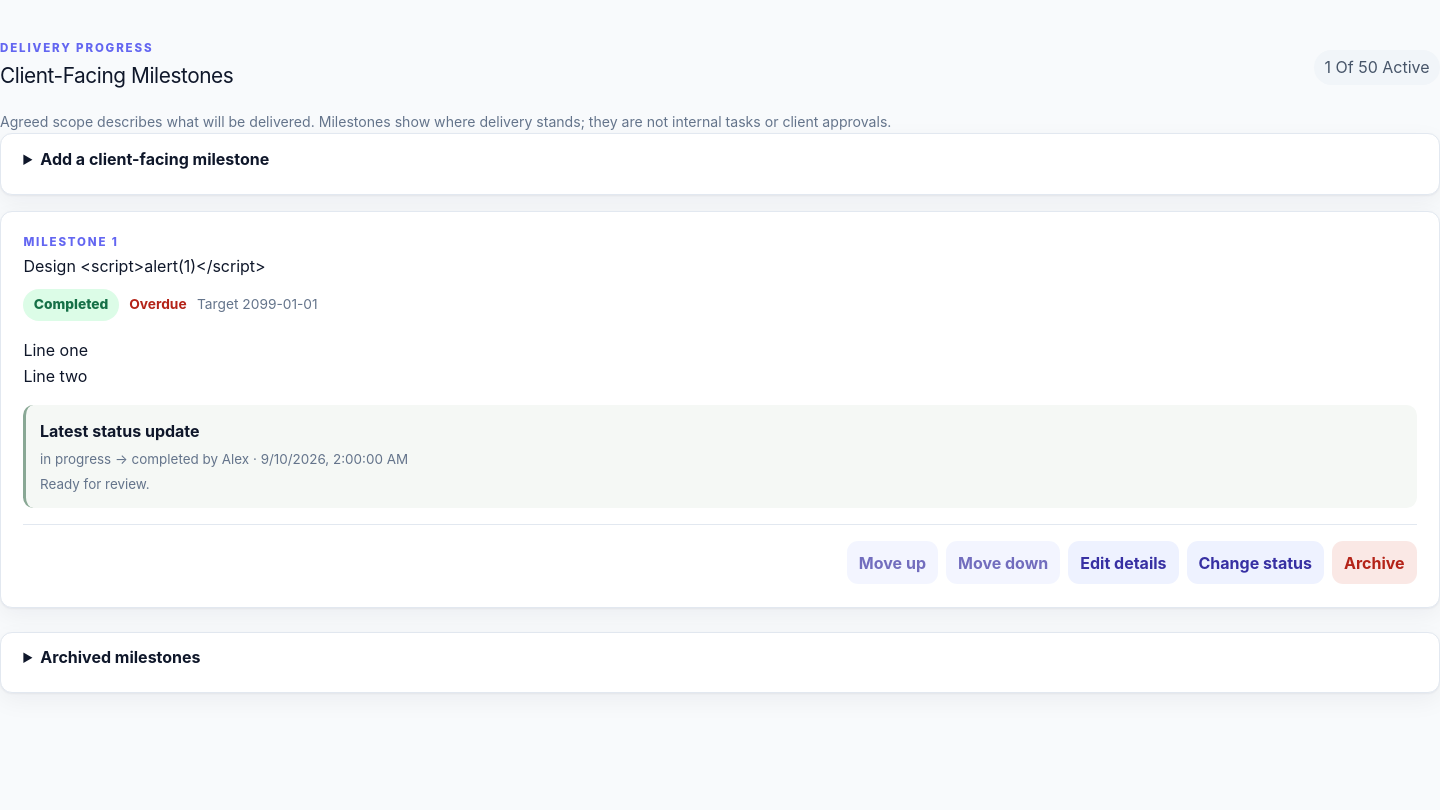
Test: Slice 1.4 milestone interface › keeps completed milestones editable, reopenable, keyboard-orderable, and explicitly archivable
This screenshot has width=1440, height=810.
Expected: the button "Edit details" is shown, x1=1068 y1=541 x2=1179 y2=584
Click the button "Change status".
click(1255, 563)  # box x1=1186 y1=541 x2=1324 y2=584
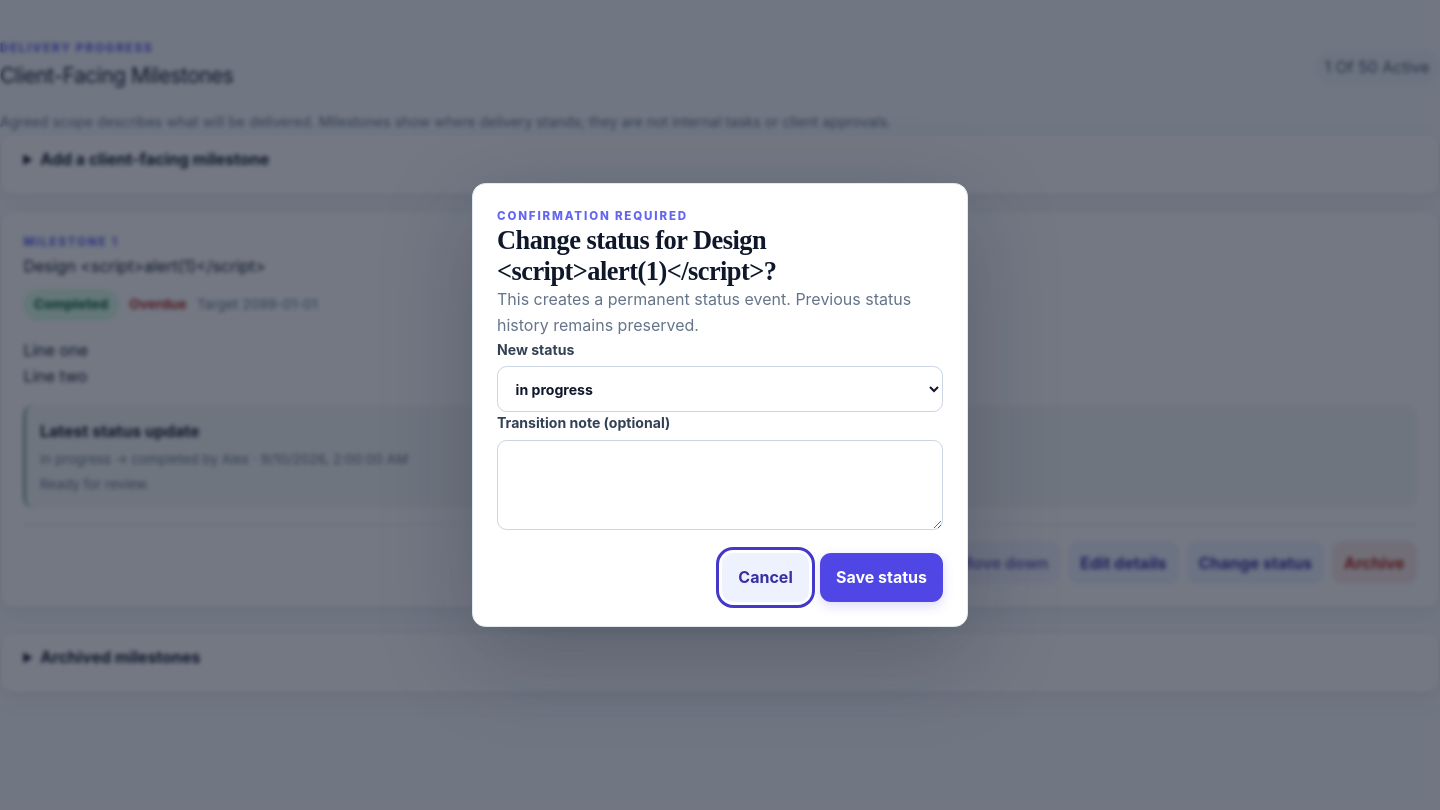
Expected: the dropdown labelled "New status" shows "in progress", x1=497 y1=366 x2=943 y2=412
Expected: the text box labelled "Transition note (optional)" is shown, x1=497 y1=440 x2=943 y2=530
Click the button "Cancel".
click(766, 577)  # box x1=722 y1=553 x2=809 y2=602
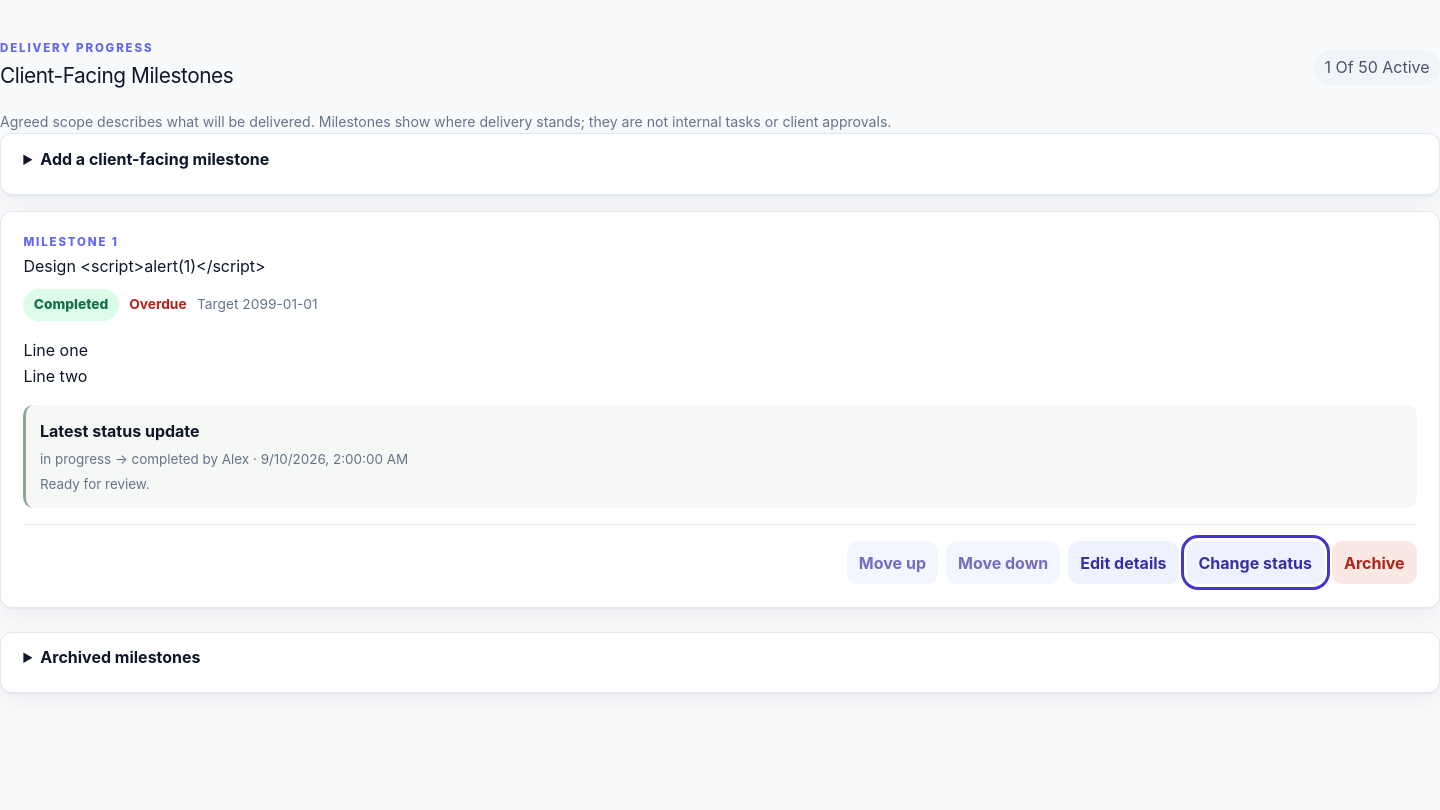
Click the button "Archive".
click(1374, 563)  # box x1=1332 y1=541 x2=1417 y2=584
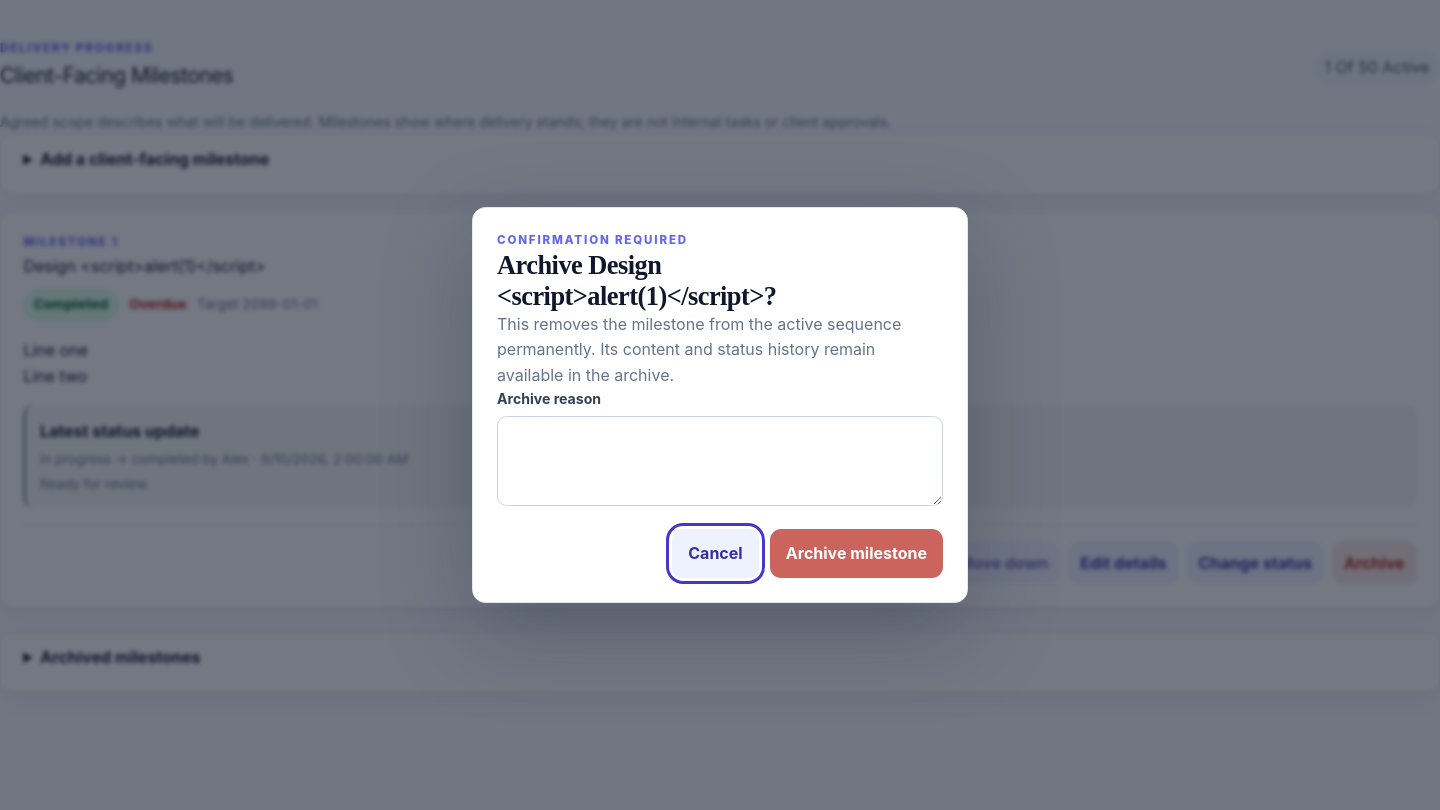
Expected: the button "Archive milestone" is disabled, x1=770 y1=529 x2=943 y2=578
Type "Combined with launch" into the text box labelled "Archive reason".
click(720, 461); type("Combined with launch")  # box x1=497 y1=416 x2=943 y2=506
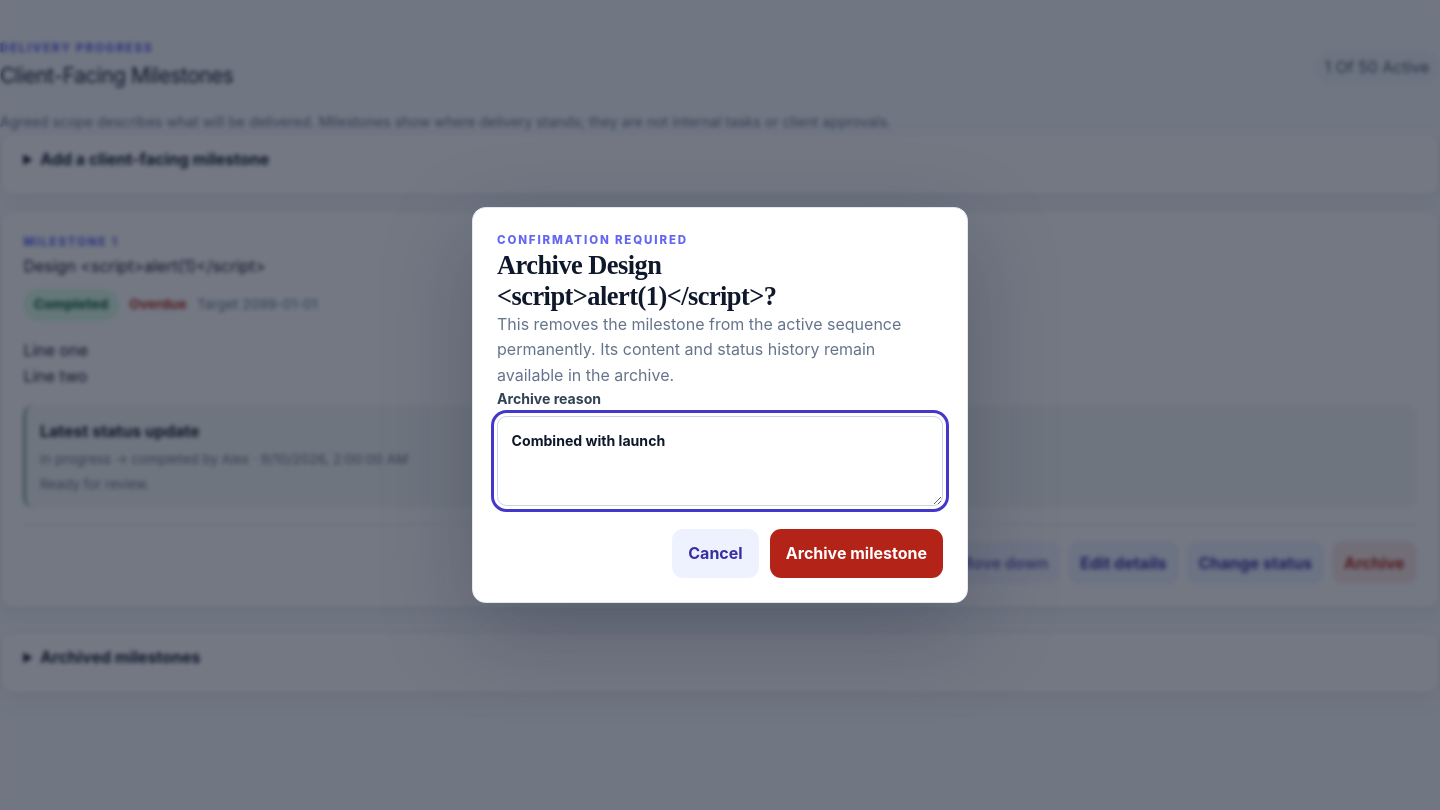
Expected: the button "Archive milestone" is enabled, x1=770 y1=529 x2=943 y2=578
